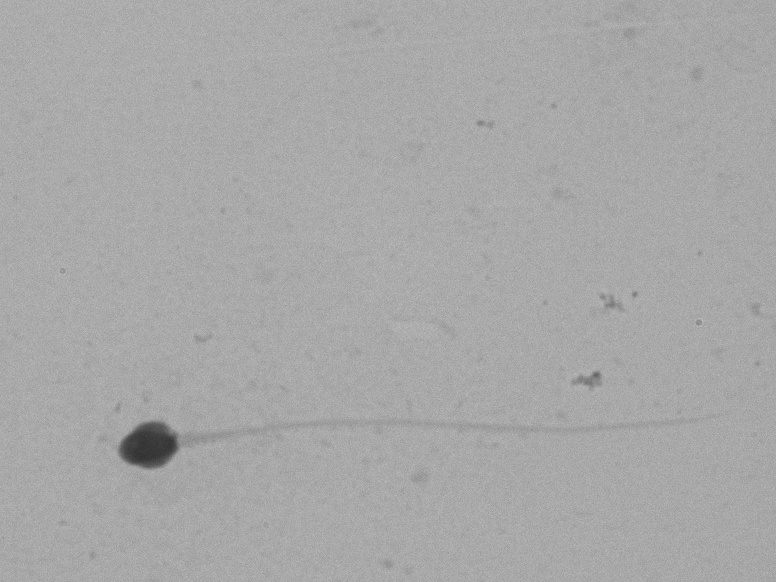Abnormal: (92, 370, 745, 509)
